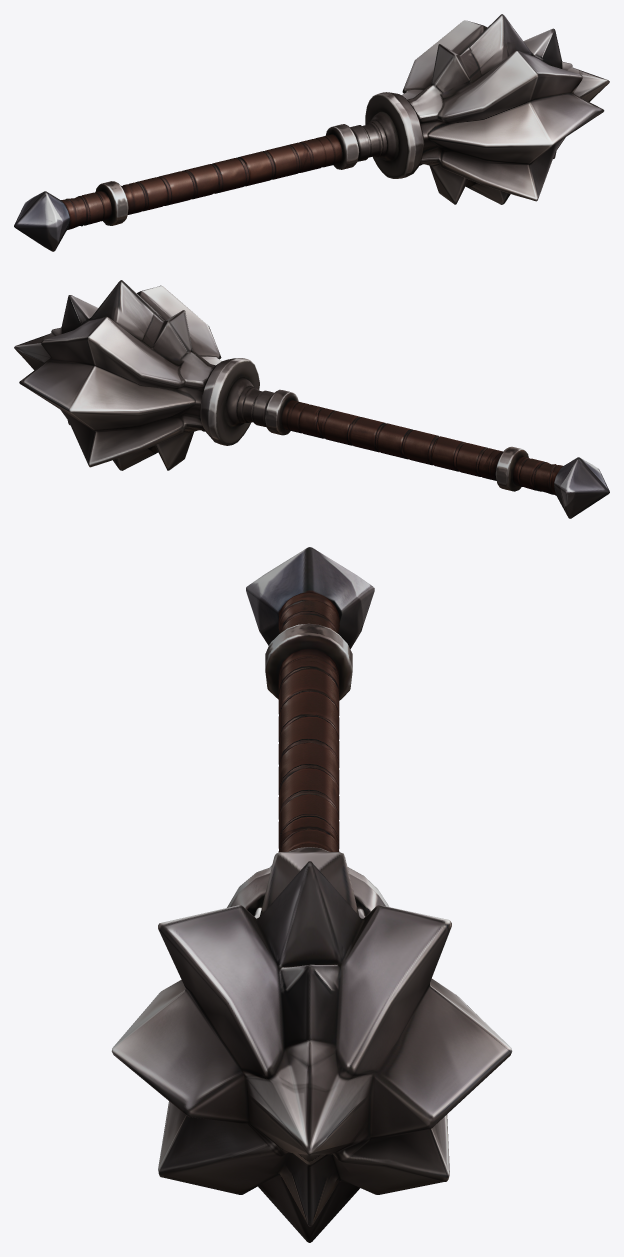
Rendered from PB_mace_vA.glb.
The picture shows the model from 3 angles, top to bottom: view 1: azimuth 30°, elevation 25°; view 2: azimuth 150°, elevation 25°; view 3: azimuth 270°, elevation 25°; orthographic projection. The views are drawn at different scales.
Visible parts, largest first — view 1: tripo_9ba61282_9819_48ab_b1a8_061a246a036b; view 2: tripo_9ba61282_9819_48ab_b1a8_061a246a036b; view 3: tripo_9ba61282_9819_48ab_b1a8_061a246a036b.
Boxes of the visible parts, x1,y1,x2,y2 form: tripo_9ba61282_9819_48ab_b1a8_061a246a036b: (14, 14, 609, 251); tripo_9ba61282_9819_48ab_b1a8_061a246a036b: (14, 280, 609, 518); tripo_9ba61282_9819_48ab_b1a8_061a246a036b: (111, 547, 512, 1242).
Size of the model in its own units: 0.9995 by 0.3052 by 0.2915.
Materials: 1 (1 with a texture image).
